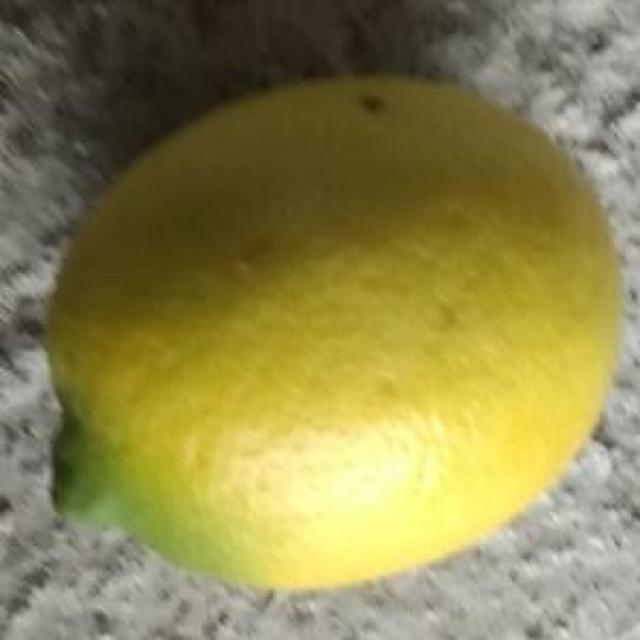lemon: (37, 75, 618, 595)
